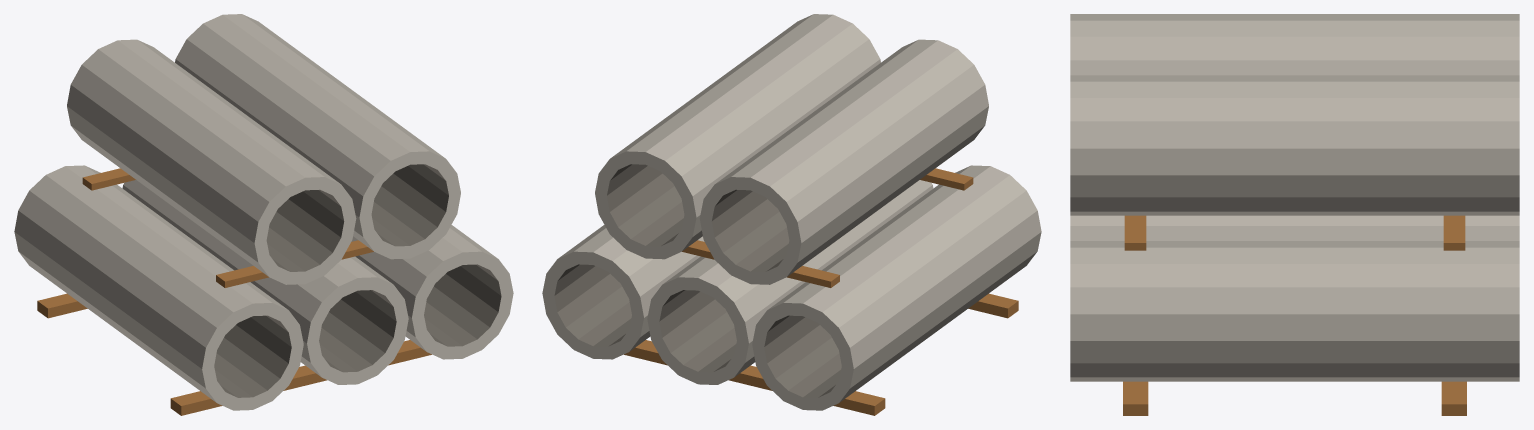
File: pipe-stack.glb
3 views of the same model, side by side, from view 1: azimuth 30°, elevation 25°; view 2: azimuth 150°, elevation 25°; view 3: azimuth 270°, elevation 25° (orthographic). The views are drawn at different scales.
Parts seen in each view (by area): view 1: pipe-stack; view 2: pipe-stack; view 3: pipe-stack.
Boxes of the visible parts, bbox=[...] form: pipe-stack: bbox=[14, 14, 513, 415]; pipe-stack: bbox=[542, 14, 1041, 415]; pipe-stack: bbox=[1070, 14, 1519, 415].
Bounding box in the file's own units: 5.94 × 4.18 × 6.2.
